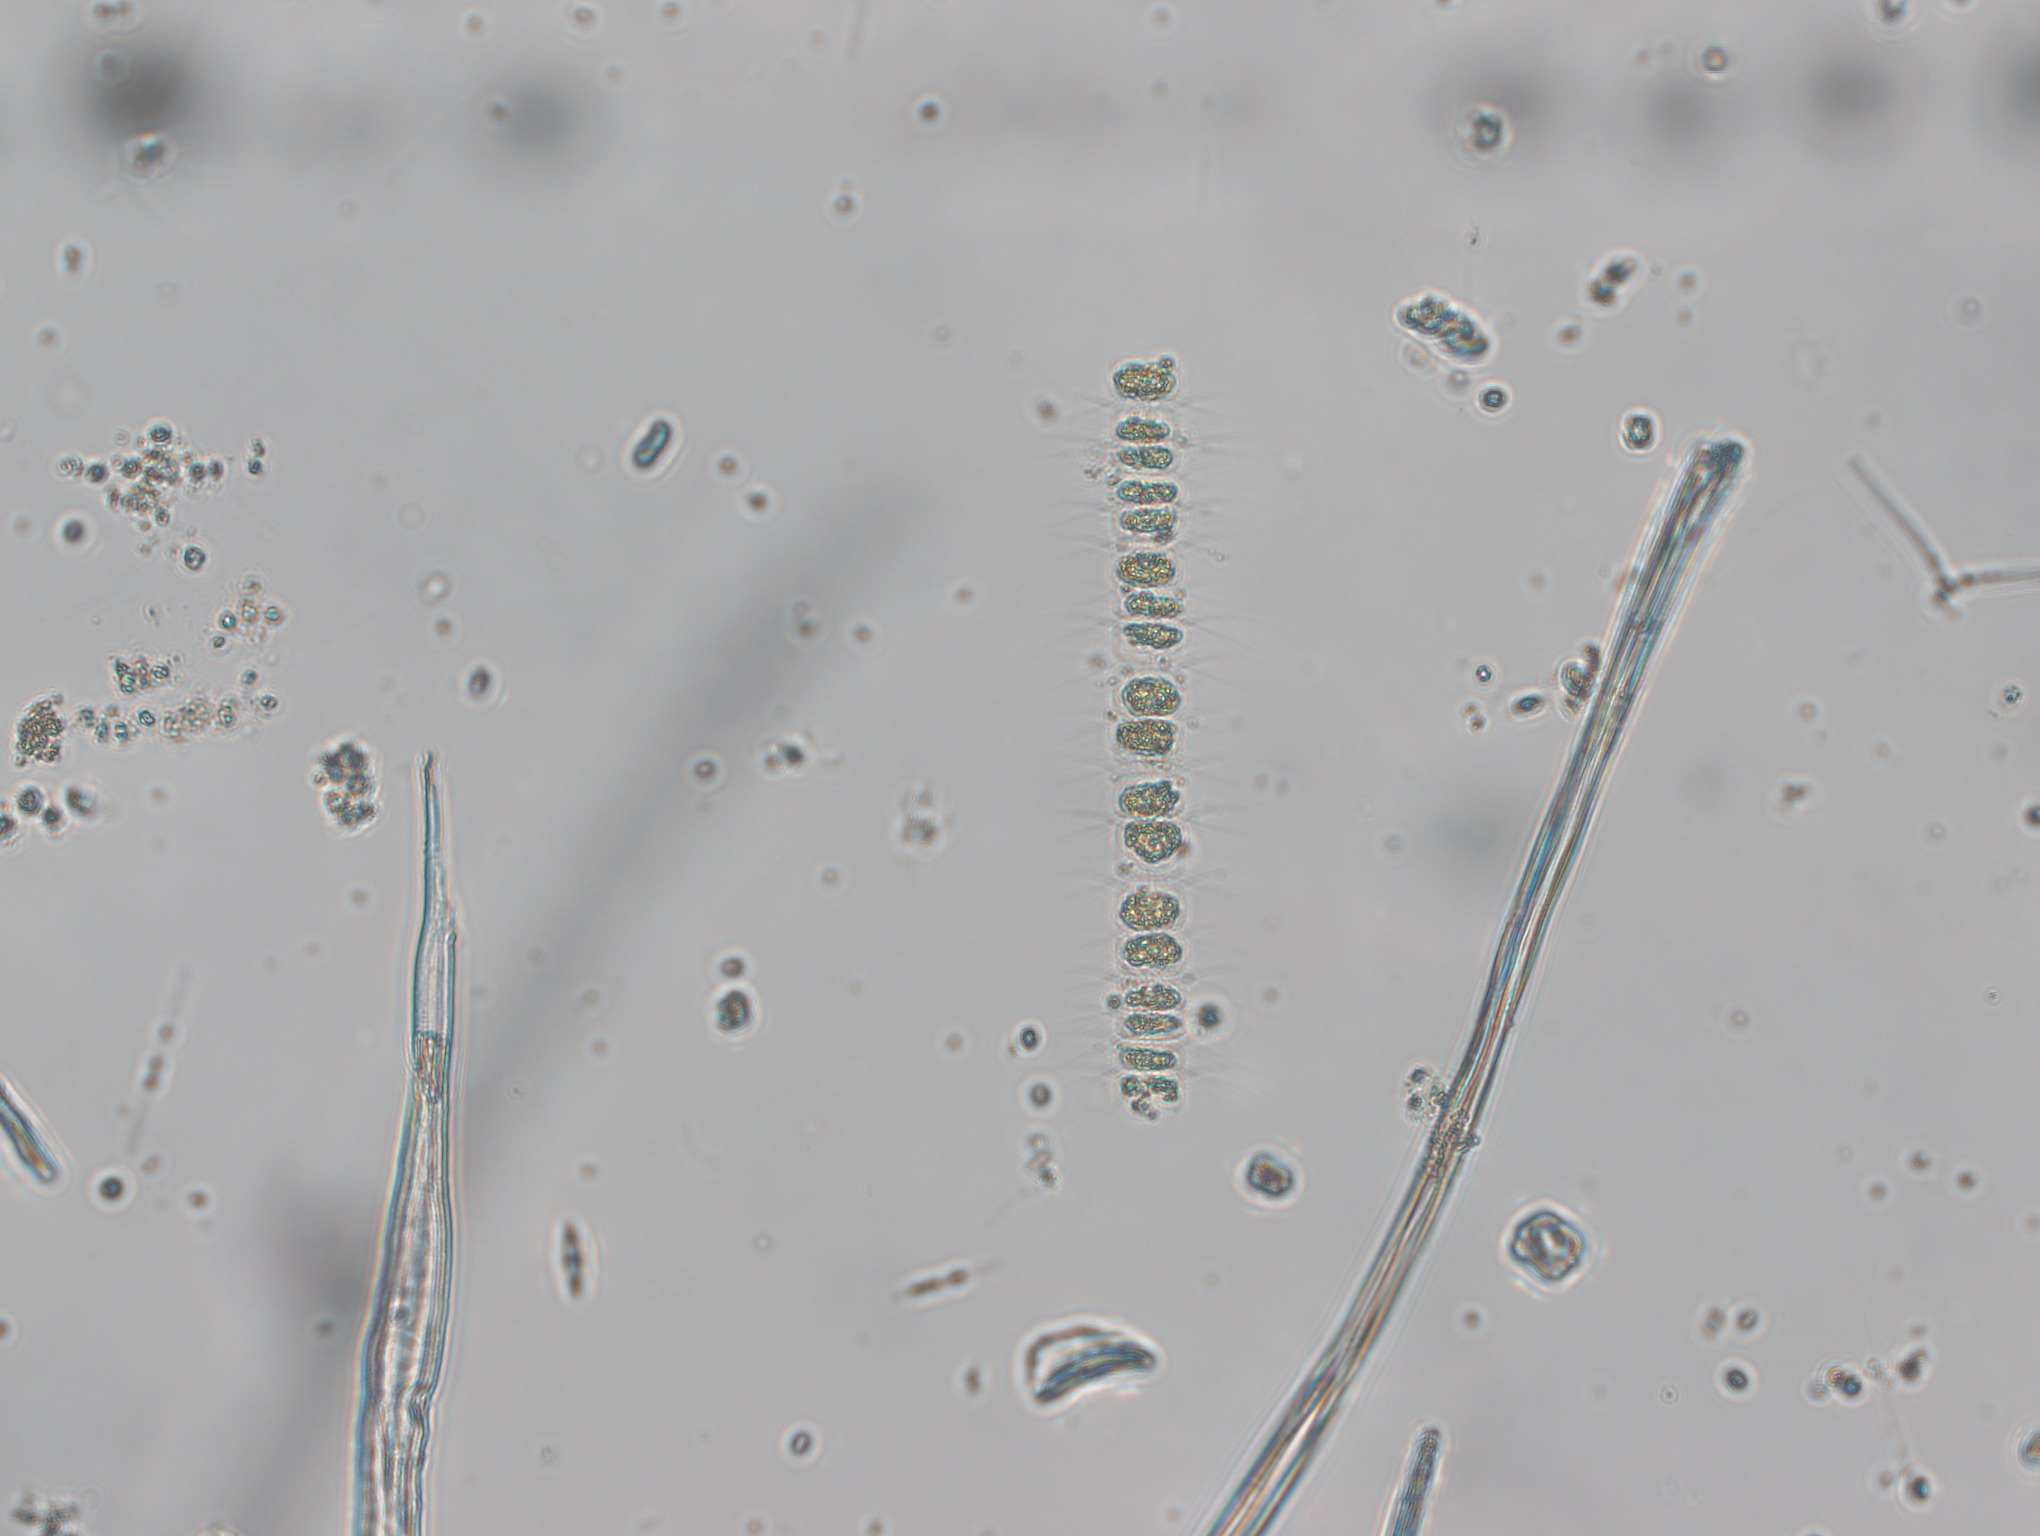chaetoceros: (1051, 361, 1251, 1129)
